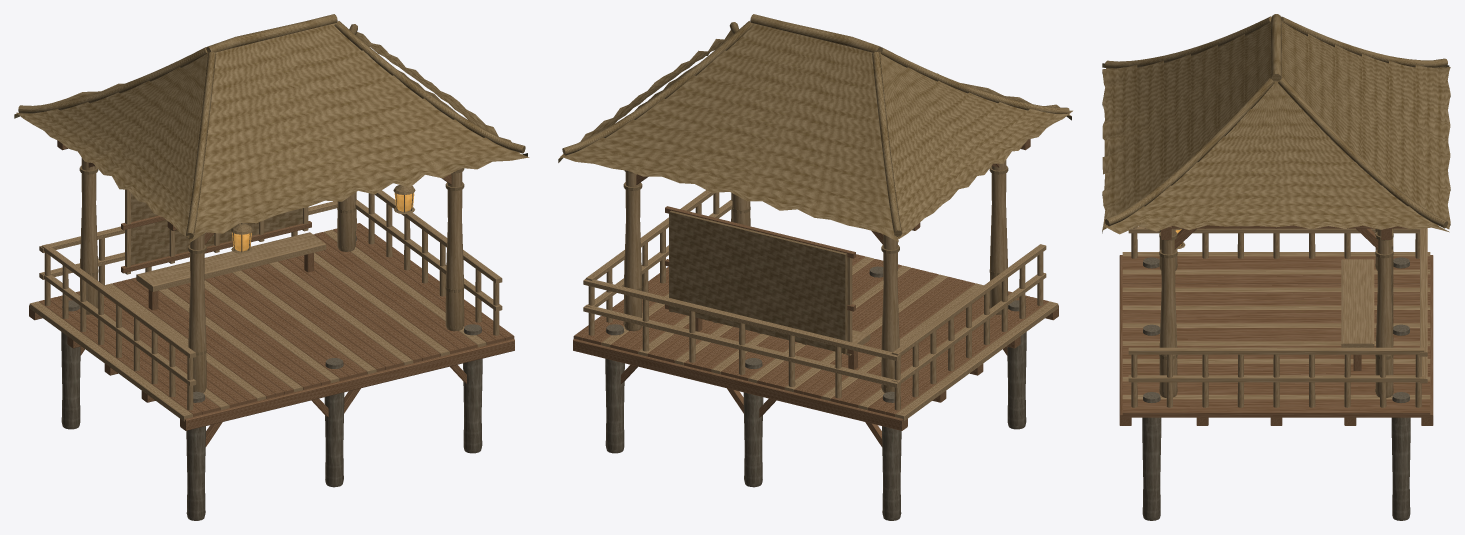
The model's file is overwater_bungalow.glb.
3 views of the same model, side by side, from view 1: azimuth 30°, elevation 25°; view 2: azimuth 150°, elevation 25°; view 3: azimuth 270°, elevation 25° (orthographic).
Parts seen in each view (by area): view 1: overwater_bungalow; view 2: overwater_bungalow; view 3: overwater_bungalow.
Part boxes in pixels (left/top/right/bottom): overwater_bungalow: left=14, top=14, right=529, bottom=520; overwater_bungalow: left=558, top=14, right=1072, bottom=520; overwater_bungalow: left=1102, top=14, right=1450, bottom=520.
Bounding box in the file's own units: 5.4 × 6.2 × 4.8.
2 materials, 2 textured.
